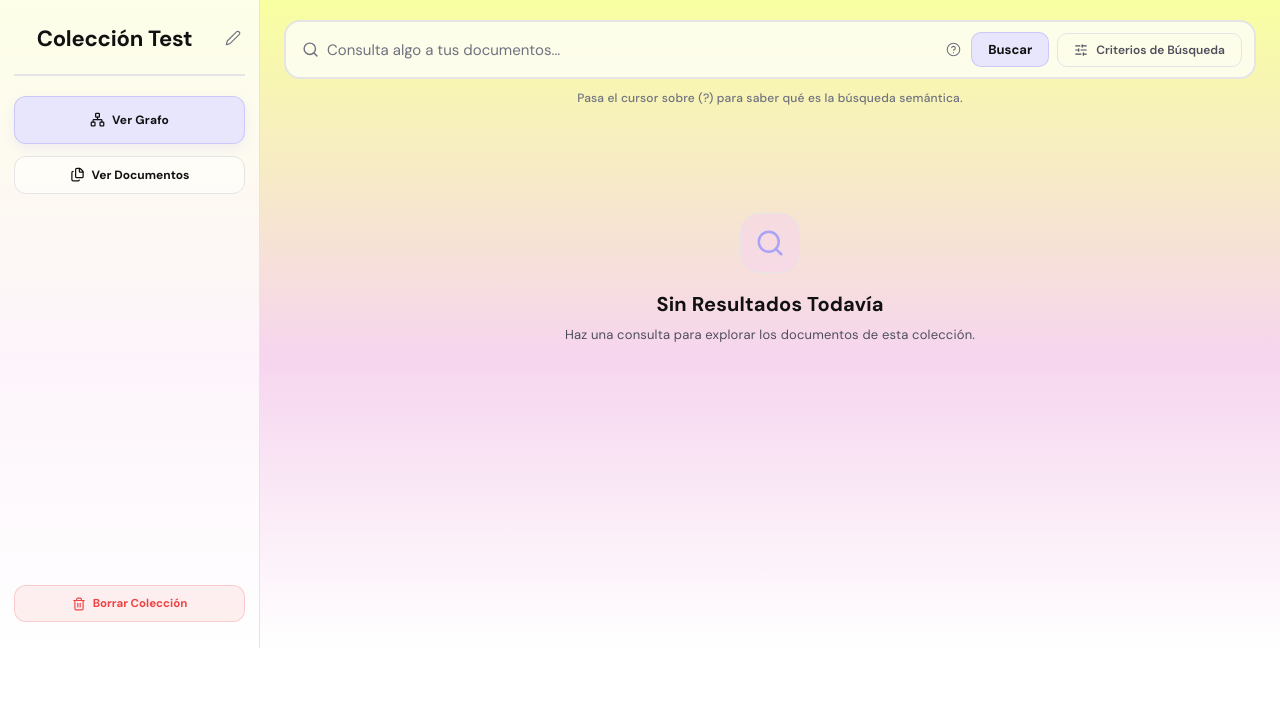
Scenario: BuscadorColeccion › ejecuta búsqueda al presionar Enter y muestra resultados
expect the heading "Colección Test" is shown: met, box x1=37 y1=24 x2=192 y2=53
Type "grafos" into the field with placeholder "Consulta algo a tus documentos..." at (632, 50), box x1=327 y1=40 x2=936 y2=60
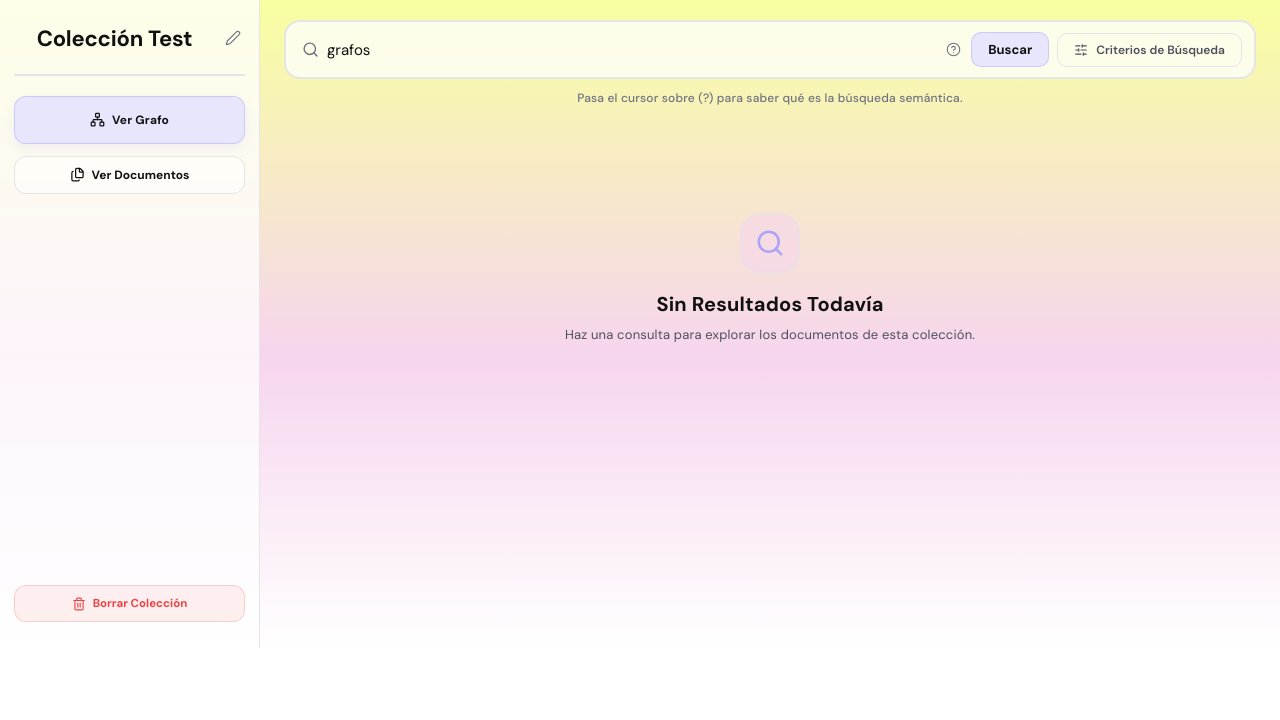
Press Enter in the field with placeholder "Consulta algo a tus documentos...", box x1=327 y1=40 x2=936 y2=60
Wait 400 ms
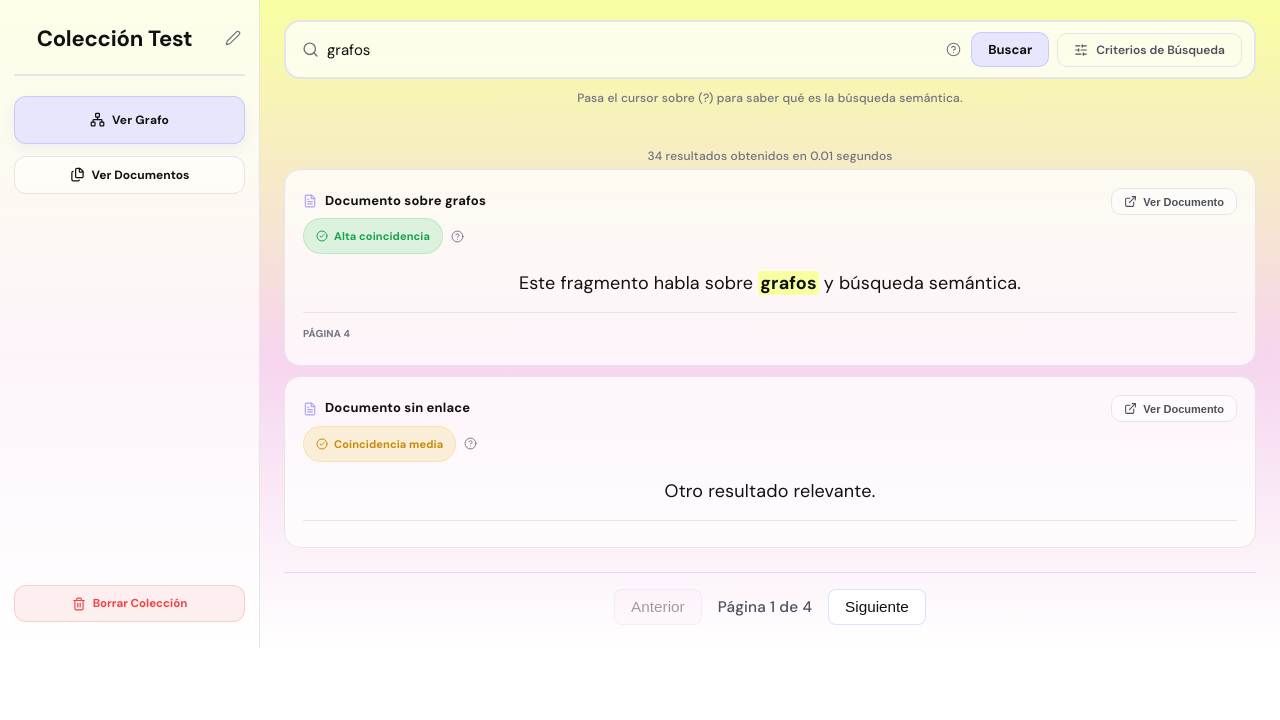
expect the heading "Documento sobre grafos" is shown: met, box x1=325 y1=188 x2=486 y2=214
expect the text "Alta coincidencia" is shown: met, box x1=334 y1=229 x2=430 y2=243
expect the text "Coincidencia media" is shown: met, box x1=334 y1=437 x2=443 y2=451
